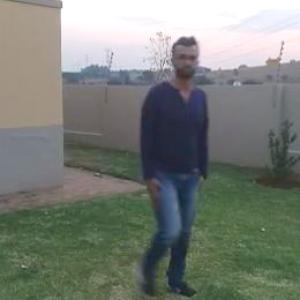follow: (110, 31, 212, 299)
